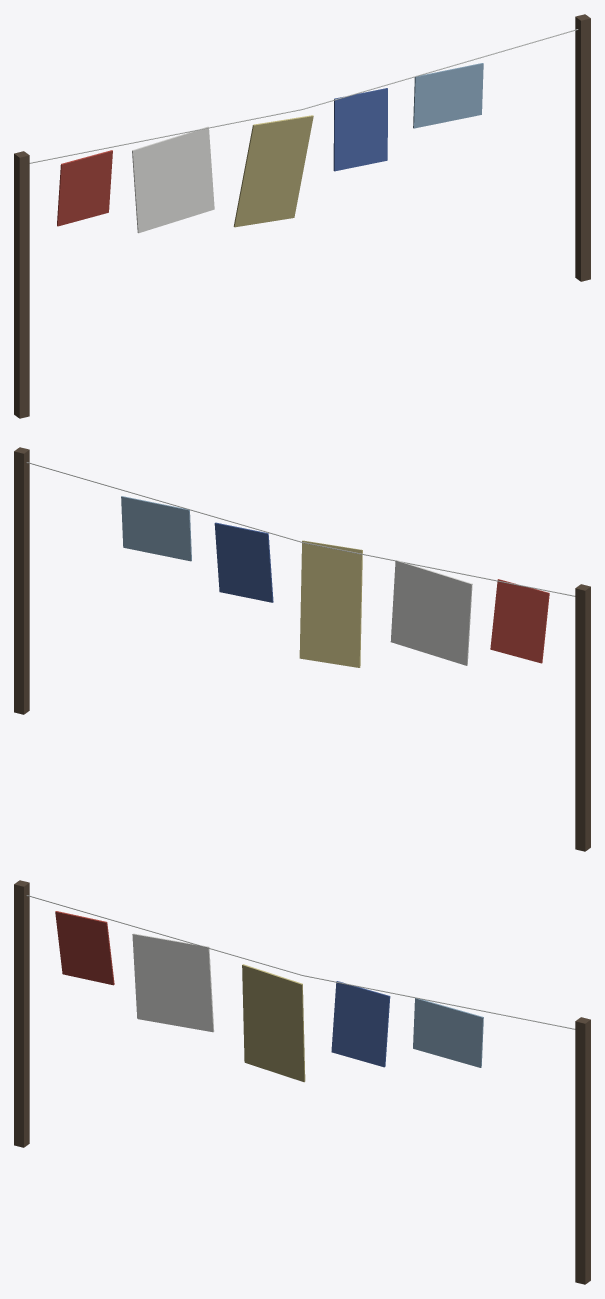
The model's file is street.garden.washing_line_1.glb.
The picture shows the model from 3 angles, top to bottom: view 1: azimuth 30°, elevation 25°; view 2: azimuth 150°, elevation 25°; view 3: azimuth 330°, elevation 25°; orthographic projection.
Parts seen in each view (by area): view 1: main__paint_654, main__paint_ddd, main__paint_cc8, main__paint_56a, main__paint_9bc, main__paint_b54, main__paint_bbb; view 2: main__paint_654, main__paint_cc8, main__paint_ddd, main__paint_b54, main__paint_56a, main__paint_9bc, main__paint_bbb; view 3: main__paint_654, main__paint_ddd, main__paint_cc8, main__paint_56a, main__paint_9bc, main__paint_b54, main__paint_bbb.
Boxes of the visible parts, <box> form: main__paint_654: <box>14,14,590,418</box>; main__paint_ddd: <box>132,126,214,233</box>; main__paint_cc8: <box>233,115,313,227</box>; main__paint_56a: <box>333,88,387,171</box>; main__paint_9bc: <box>413,63,483,128</box>; main__paint_b54: <box>57,150,112,226</box>; main__paint_bbb: <box>29,29,578,163</box>; main__paint_654: <box>14,447,590,851</box>; main__paint_cc8: <box>299,540,362,667</box>; main__paint_ddd: <box>390,560,472,665</box>; main__paint_b54: <box>490,579,549,663</box>; main__paint_56a: <box>214,522,273,602</box>; main__paint_9bc: <box>121,496,191,561</box>; main__paint_bbb: <box>26,462,575,596</box>; main__paint_654: <box>14,880,590,1284</box>; main__paint_ddd: <box>132,933,214,1032</box>; main__paint_cc8: <box>242,964,305,1082</box>; main__paint_56a: <box>331,981,390,1067</box>; main__paint_9bc: <box>413,998,483,1067</box>; main__paint_b54: <box>55,911,114,985</box>; main__paint_bbb: <box>26,895,575,1029</box>.
Bounding box in the file's own units: 4.58 × 2 × 0.1628.
